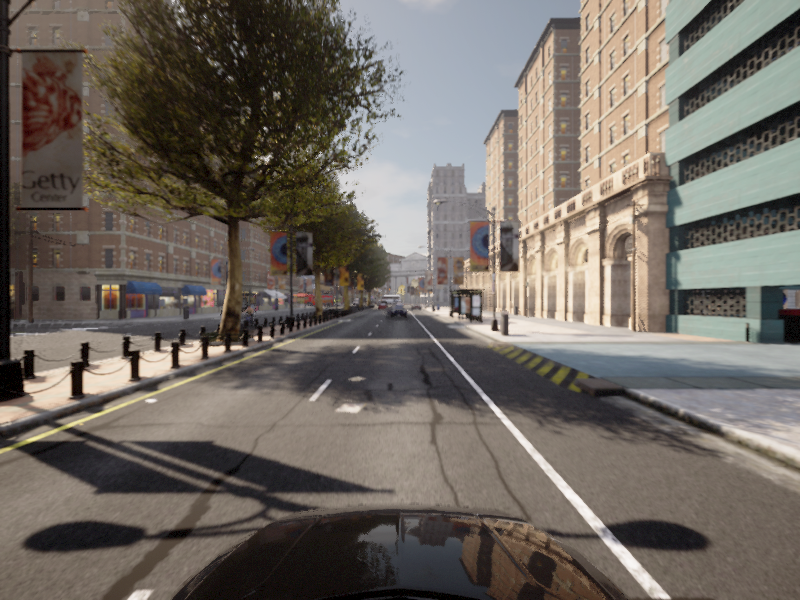vehicle: (1, 347, 10, 599), (239, 304, 258, 326), (222, 304, 242, 322), (385, 305, 407, 318)
